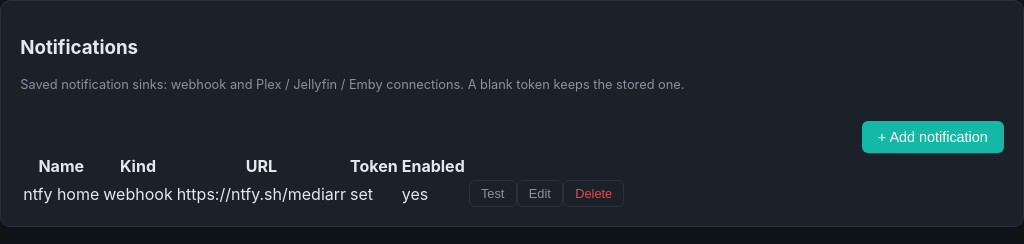
Scenario: NotificationsSection › runs the per-sink test and shows the outcome
Check: the row with test id "notif-row-1" is shown, box [22,179,625,208]
Click the button with test id "notif-test-1" at (493, 194), box [469,180,517,207]
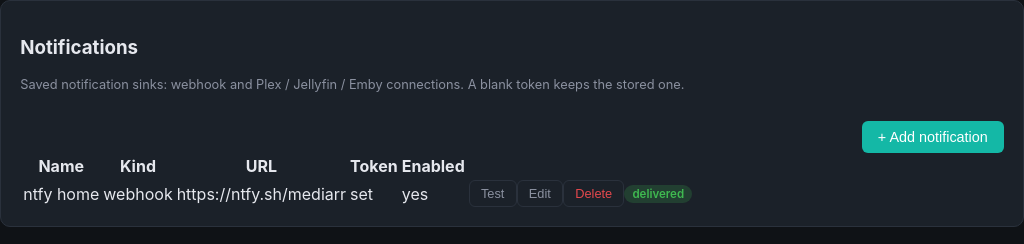
Check: the text with test id "notif-test-result-1" reads "Delivered", box [632,187,684,201]
